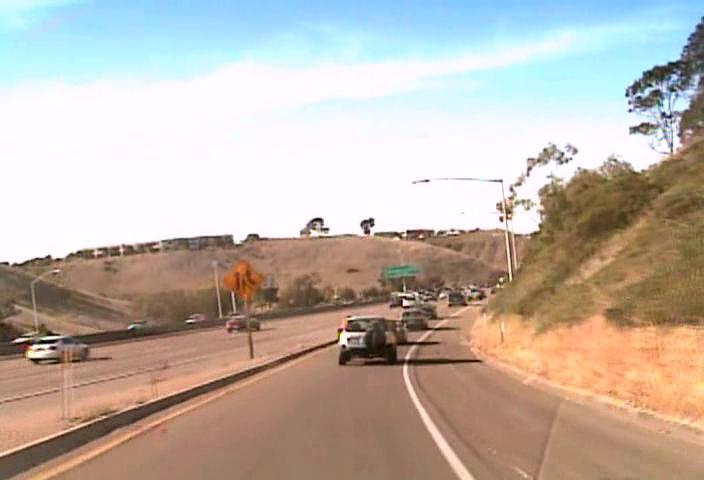addedLane: (221, 258, 264, 302)
